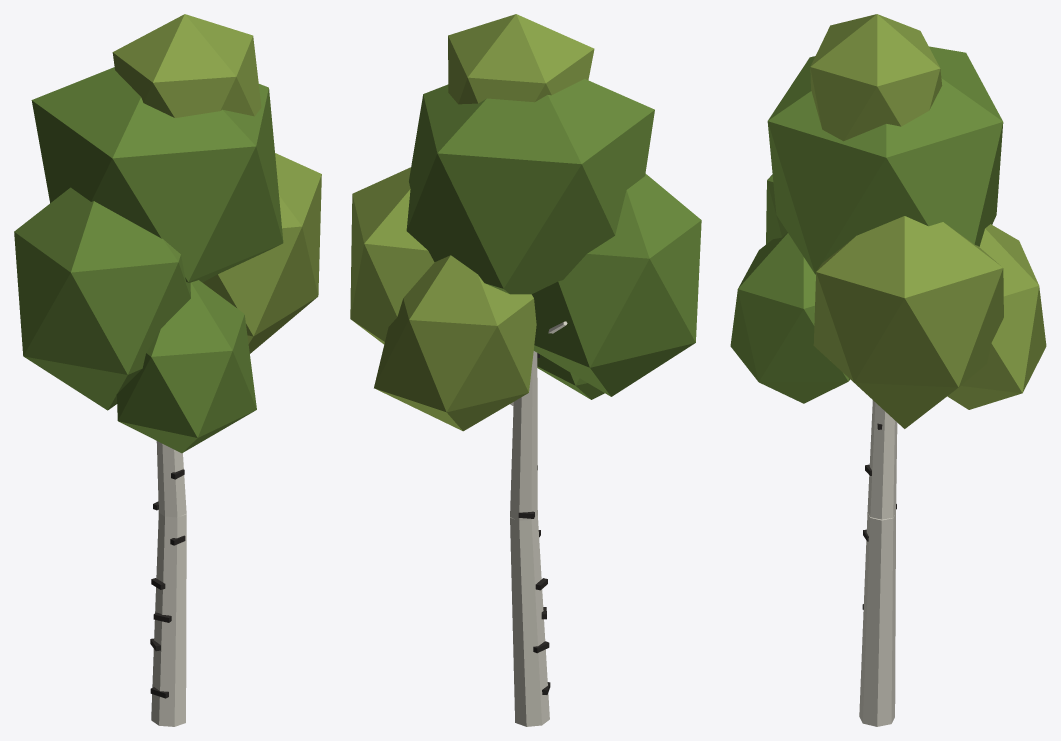
File: берёза.glb
3 views of the same model, side by side, from view 1: azimuth 30°, elevation 25°; view 2: azimuth 150°, elevation 25°; view 3: azimuth 270°, elevation 25° (orthographic).
Visible parts, largest first — view 1: берёза; view 2: берёза; view 3: берёза.
Boxes of the visible parts, x1=… form: берёза: x1=14, y1=14, x2=321, y2=726; берёза: x1=350, y1=14, x2=701, y2=726; берёза: x1=730, y1=14, x2=1046, y2=726.
Bounding box in the file's own units: 4.1 × 8.57 × 3.44.
